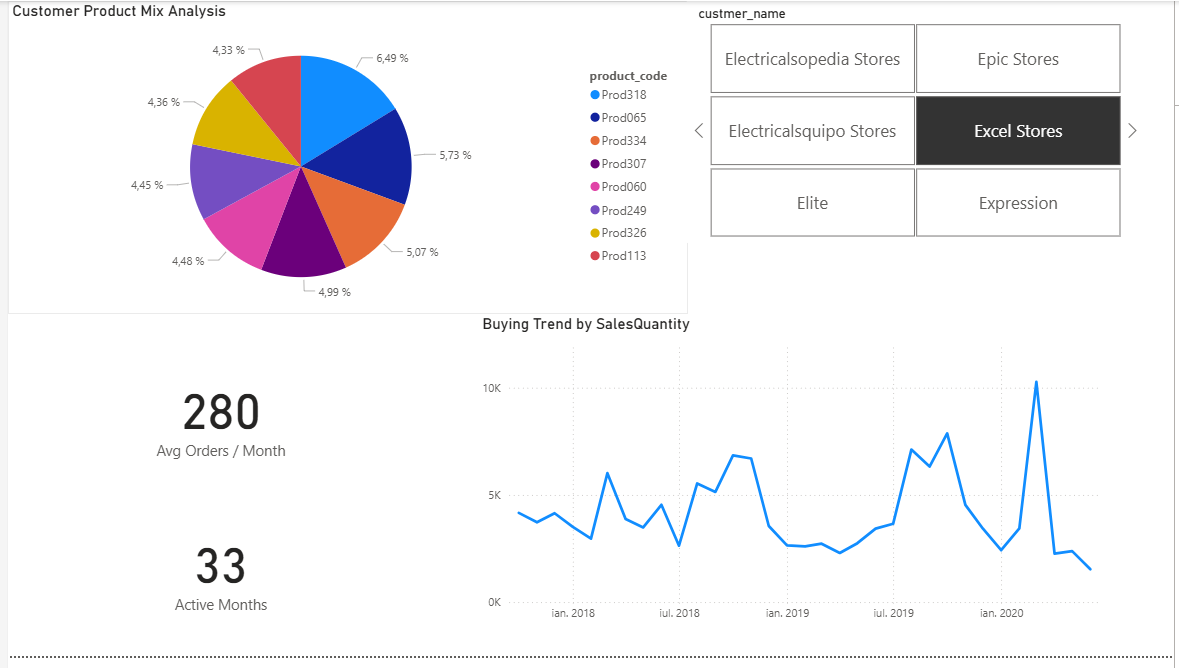

What the dashboard file says about the page in this screenshot:
{"tool":"powerbi","page":{"name":"Customer Insights","canvas":[1280,720],"ordinal":2},"visuals":[{"type":"pieChart","title":"Customer Product Mix Analysis","fields":{"Category":["sales transactions.product_code"],"Y":["Sum(TotalTransactionsProd.PercentagePerProduct)"]},"box":[0,0,746.5,344.4],"z":0},{"type":"lineChart","title":"Buying Trend by SalesQuantity","fields":{"Category":["sales date.cy_date"],"Y":["BaseMeasures.SalesQuantity"]},"box":[515.7,344.3,701.4,345.7],"z":1000},{"type":"slicer","fields":{"Values":["sales customers.custmer_name"]},"box":[745.7,0,500,265.7],"z":2000},{"type":"card","fields":{"Values":["BaseMeasures.Average Orders Monthly"]},"box":[112.5,376,242.9,157.8],"z":3000},{"type":"card","fields":{"Values":["Sum(ActivePurchaseMonths.Count)"]},"box":[112.5,544.8,242.9,157.8],"z":4000}]}

Visuals, with their boxes in screenshot pixels (x1, y1, x2, y2), scaled from the page's 1280x720 canvas onto the 1179x668 screenshot:
"Customer Product Mix Analysis" pieChart: 0, 0, 688, 320
"Buying Trend by SalesQuantity" lineChart: 475, 319, 1121, 640
slicer - sales customers.custmer_name: 687, 0, 1147, 247
card - BaseMeasures.Average Orders Monthly: 104, 349, 327, 495
card - Sum(ActivePurchaseMonths.Count): 104, 505, 327, 652
